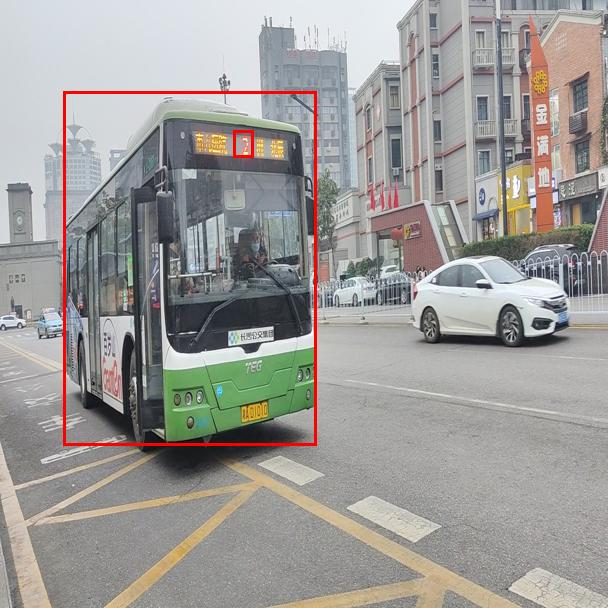bus: (63, 91, 316, 445)
screen: (233, 130, 253, 157)
